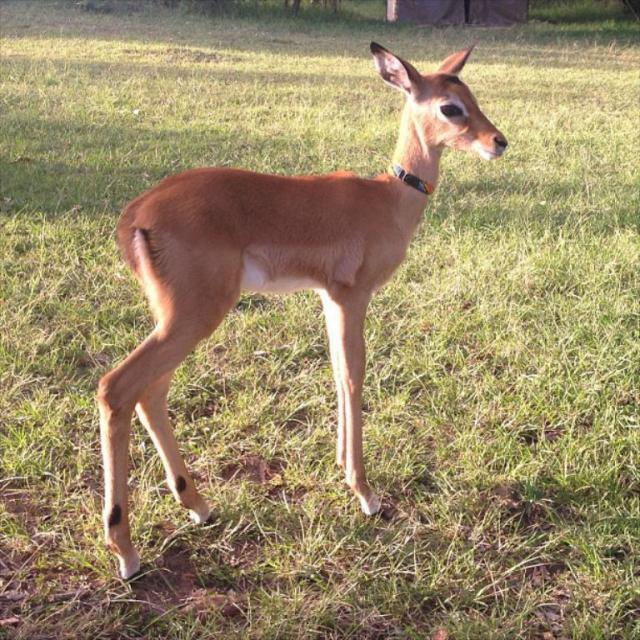Deer: (99, 42, 508, 587)
